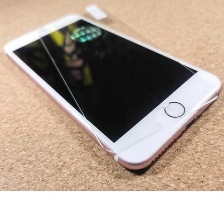phone: (0, 9, 223, 178)
